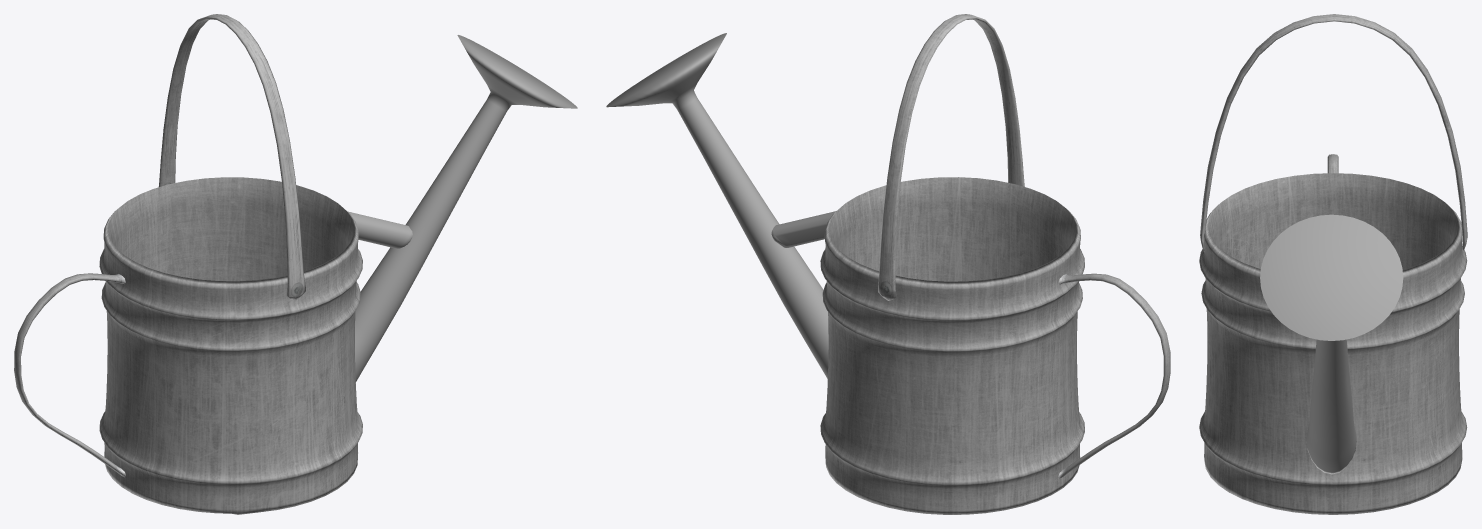
File: Watering Can.fbx
The picture shows the model from 3 angles, left to right: view 1: azimuth 30°, elevation 25°; view 2: azimuth 150°, elevation 25°; view 3: azimuth 270°, elevation 25°; orthographic projection.
Parts seen in each view (by area): view 1: watering_can; view 2: watering_can; view 3: watering_can.
Boxes of the visible parts, x1=… form: watering_can: x1=14, y1=14, x2=577, y2=514; watering_can: x1=606, y1=14, x2=1170, y2=514; watering_can: x1=1199, y1=14, x2=1467, y2=514.
Bounding box in the file's own units: 94.99 × 72.48 × 39.56.
